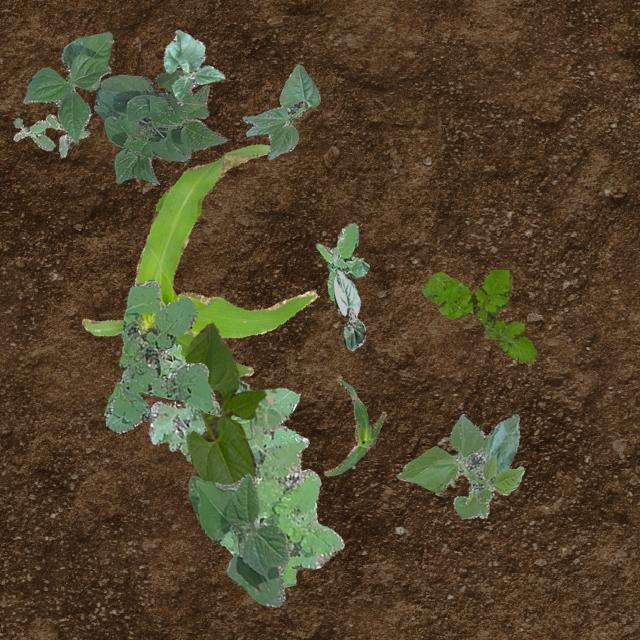crop: (80, 144, 316, 376), (92, 70, 226, 184), (188, 472, 290, 606), (396, 412, 524, 518), (183, 322, 264, 484), (22, 31, 112, 142), (242, 64, 318, 158), (322, 374, 386, 474), (162, 28, 224, 104), (332, 268, 364, 349)
weed: (148, 356, 342, 586), (102, 278, 222, 432), (421, 268, 536, 364), (316, 222, 368, 304), (12, 112, 90, 156), (160, 342, 180, 376)
